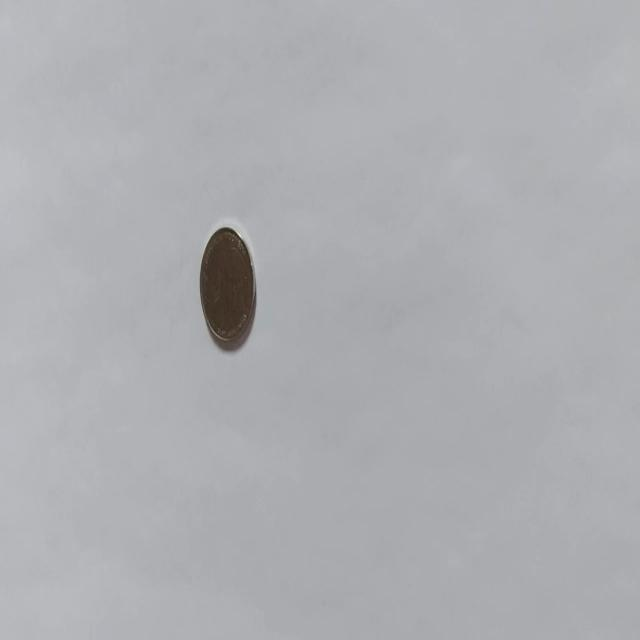seribu rupiah koin: (198, 223, 256, 346)
